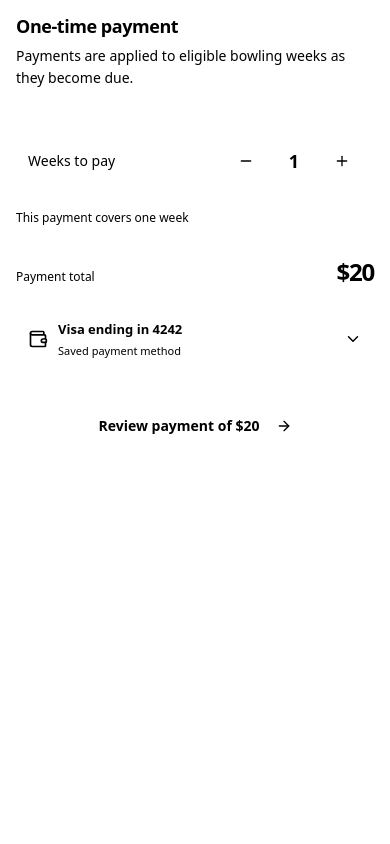
Test case: RotatingShareCreditCard › clears the purchase intent after a confirmed no-charge card decline
The image size is (390, 844).
Click the button "Review payment of $20" at [195, 426], box [16,406,374,446]
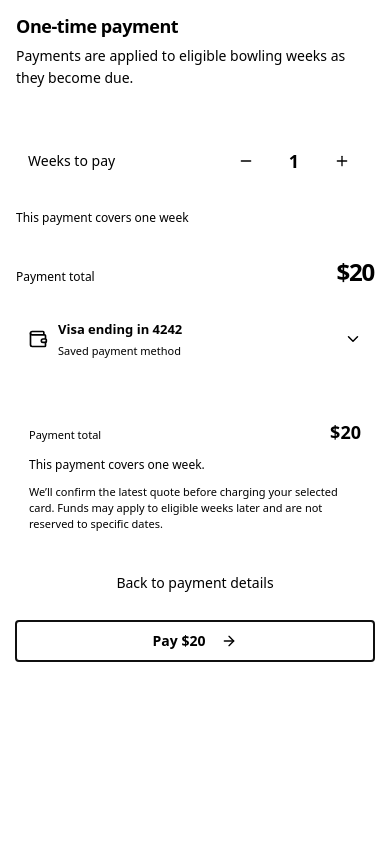
Click the button "Pay $20" at [195, 641], box [16,621,374,661]
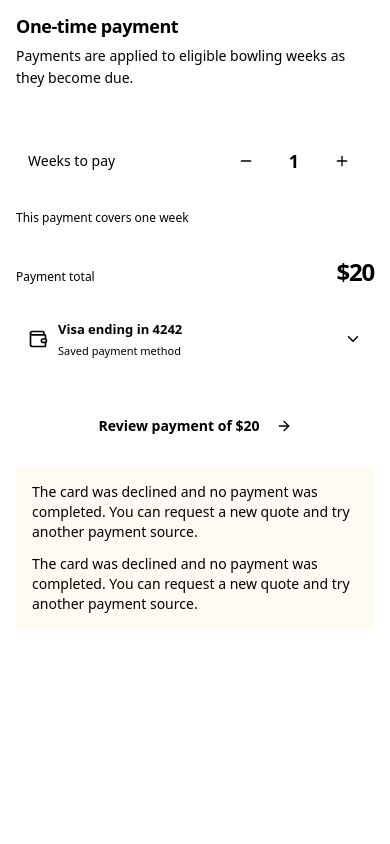
Expected: the button "Review payment of $20" is enabled, [16,406,374,446]
Now the 1st text "The card was declined and no payment was completed" is shown, box [32,482,350,541]
Click the button "Visa ending in 4242 Saved payment method" at [120, 329], box [16,308,374,370]
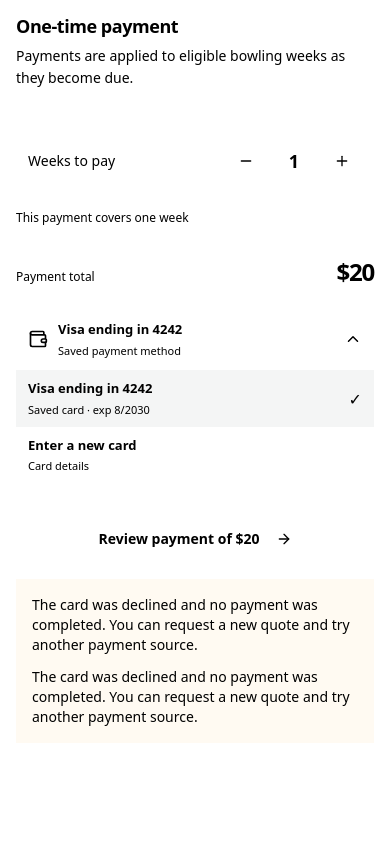
Now the option "Enter a new card Card details" is enabled, box [16,427,374,483]
